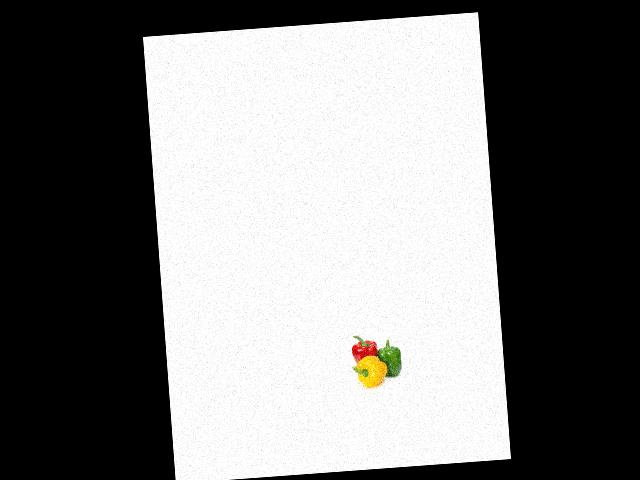bell_pepper: (346, 330, 382, 368)
